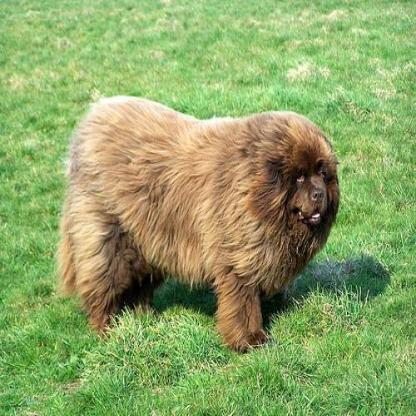Newfoundland: (55, 90, 342, 355)
